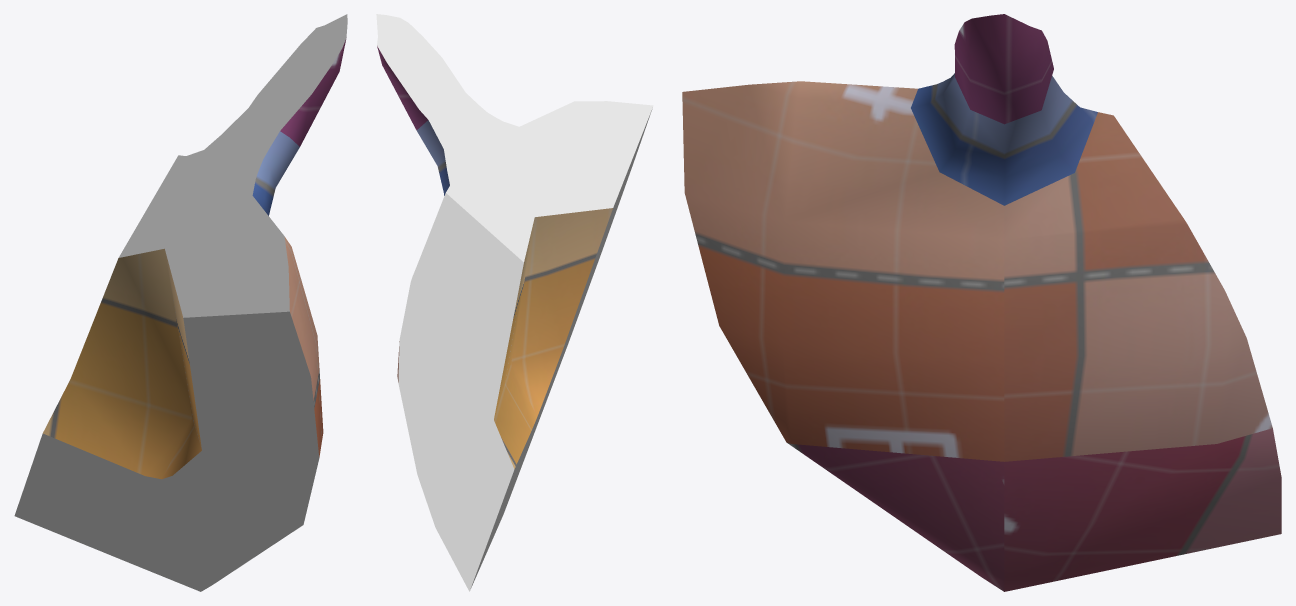
Rendered from RoundVase_SHAT_cell_015.fbx.
3 renders of one model, left to right at view 1: azimuth 30°, elevation 25°; view 2: azimuth 150°, elevation 25°; view 3: azimuth 270°, elevation 25°, orthographic. The views are drawn at different scales.
Visible parts, largest first — view 1: RoundVase_SHAT_cell_015; view 2: RoundVase_SHAT_cell_015; view 3: RoundVase_SHAT_cell_015.
Boxes of the visible parts, left/top/right/bottom form: RoundVase_SHAT_cell_015: left=14, top=14, right=347, bottom=591; RoundVase_SHAT_cell_015: left=376, top=14, right=653, bottom=591; RoundVase_SHAT_cell_015: left=682, top=14, right=1281, bottom=591.
Size of the model in its own units: 0.2797 by 0.6244 by 0.5094.
Materials: 2 (1 with a texture image).
